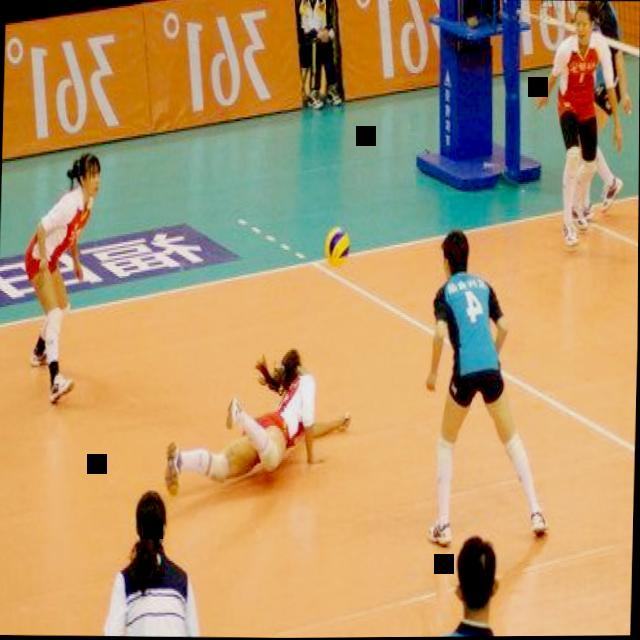Fall-Detected: (163, 331, 357, 510)
